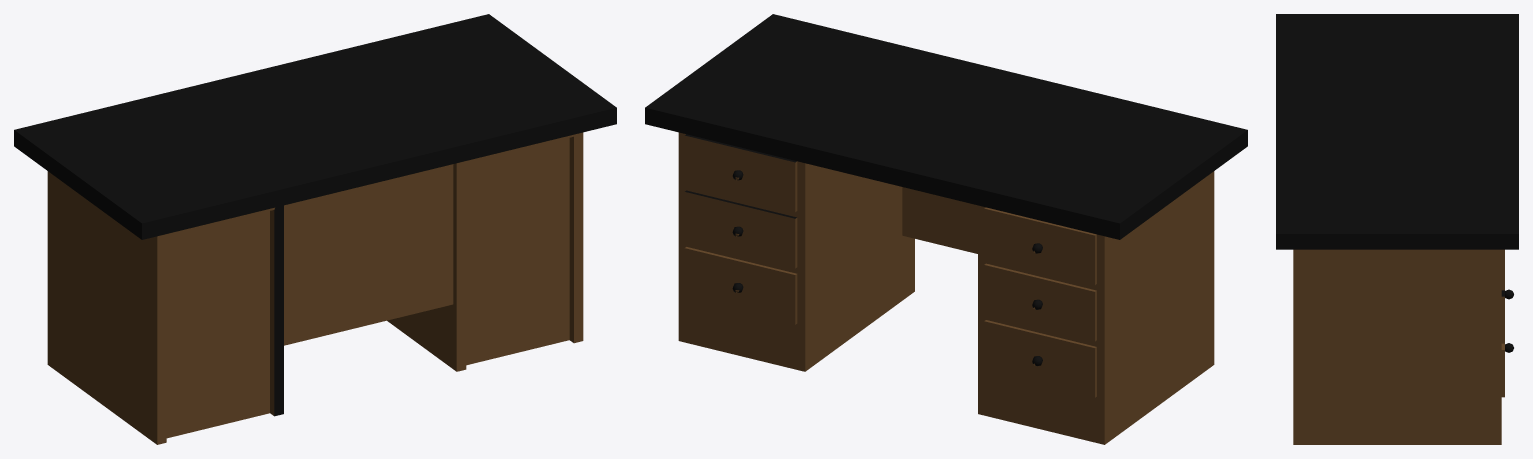
File: Desk.fbx
The picture shows the model from 3 angles, left to right: view 1: azimuth 30°, elevation 25°; view 2: azimuth 150°, elevation 25°; view 3: azimuth 270°, elevation 25°; orthographic projection. The views are drawn at different scales.
Parts seen in each view (by area): view 1: Desk; view 2: Desk; view 3: Desk.
Part boxes in pixels (x1,y1,x2,y2): Desk: (14, 14, 616, 444); Desk: (645, 14, 1247, 444); Desk: (1276, 14, 1518, 444).
Bounding box in the file's own units: 150 × 70.67 × 70.
